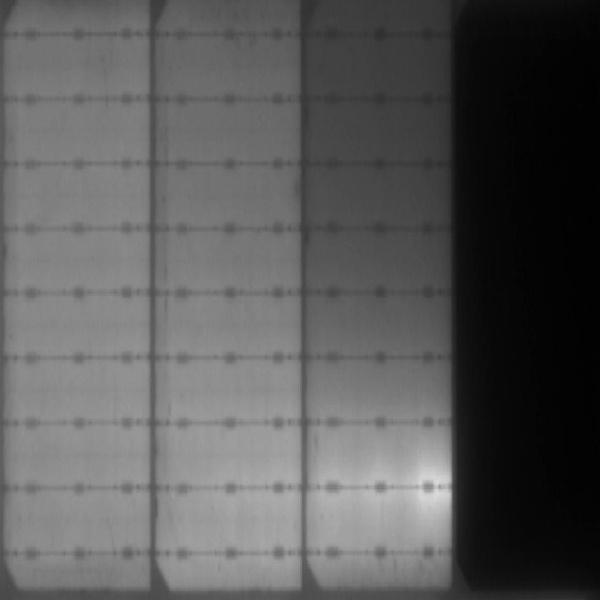no_electricity: (451, 3, 598, 595)
